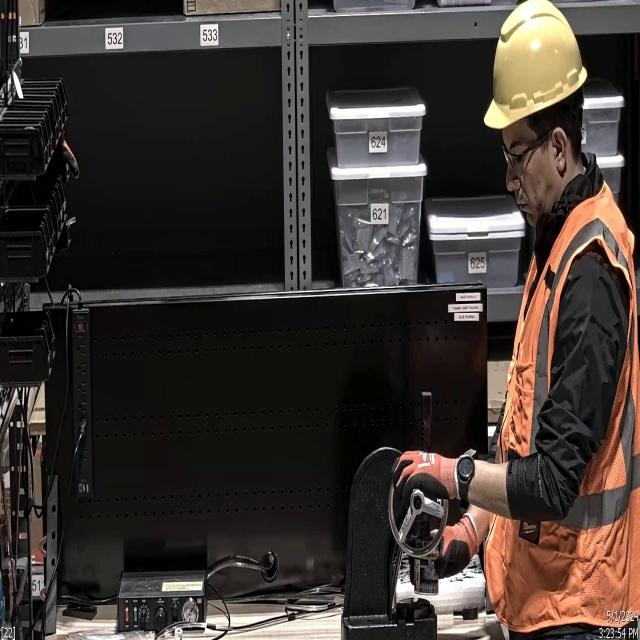gloves: (409, 512, 482, 588), (392, 446, 472, 508)
